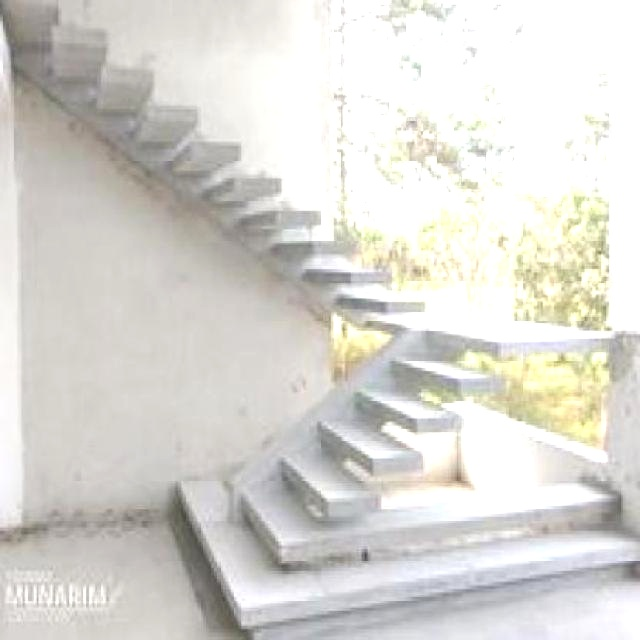stair: (141, 298, 615, 600)
